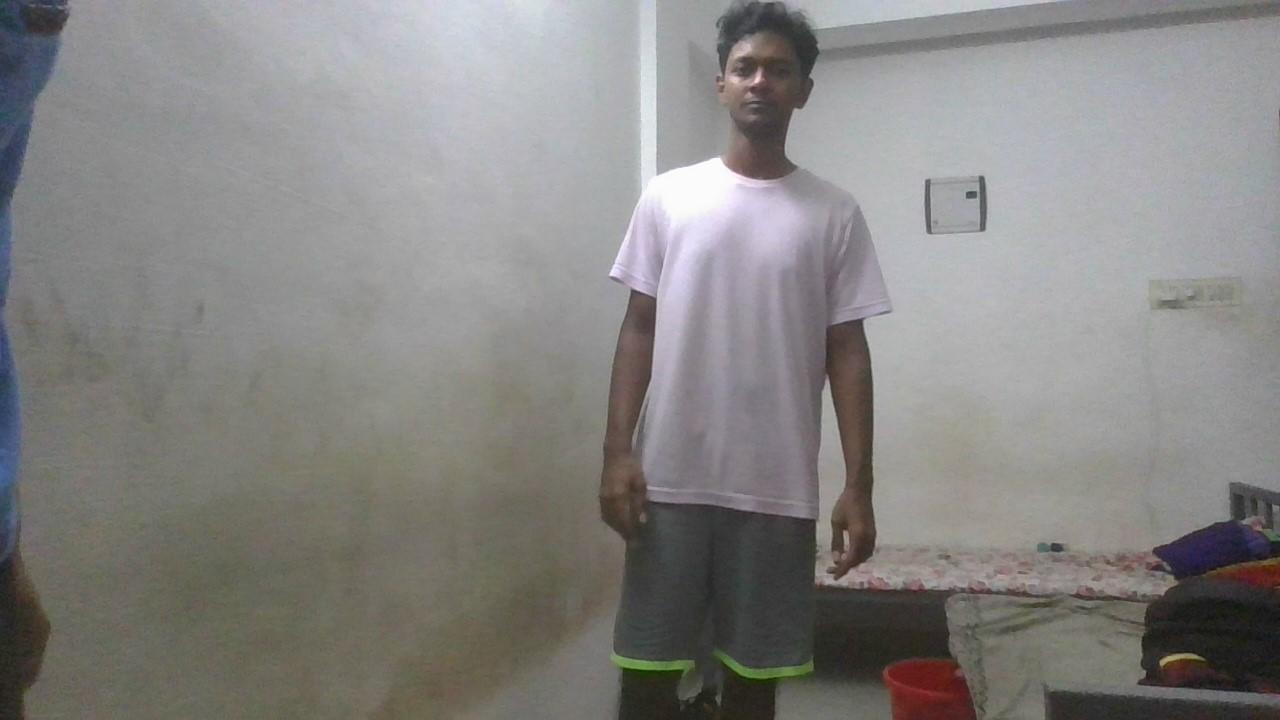nohelmet: (712, 0, 817, 140)
